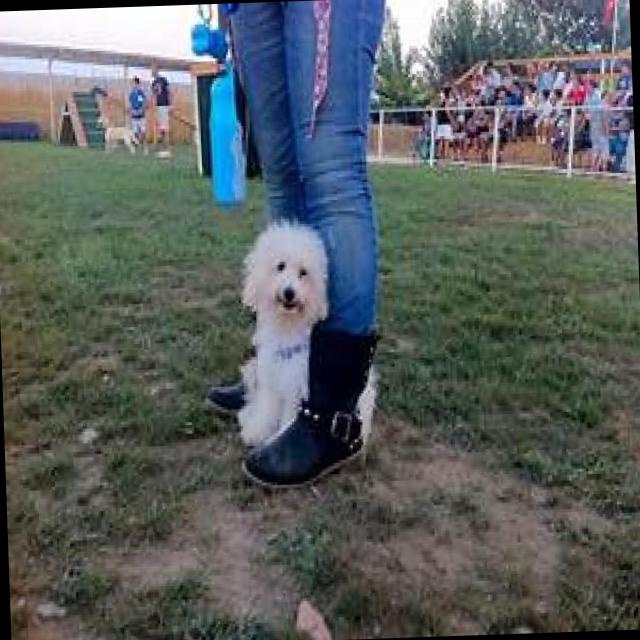animal: (204, 202, 340, 508)
